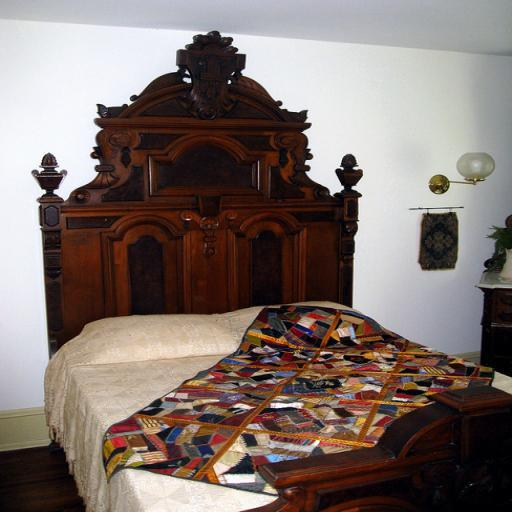bed: (15, 19, 512, 512)
